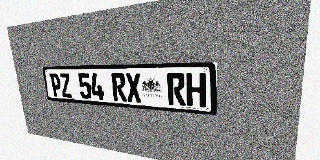4: (89, 73, 105, 100)
5: (78, 73, 92, 99)
H: (186, 73, 206, 107)
P: (49, 73, 62, 97)
R: (167, 73, 186, 106), (111, 73, 127, 102)
X: (125, 73, 142, 103)
Z: (59, 73, 73, 98)
